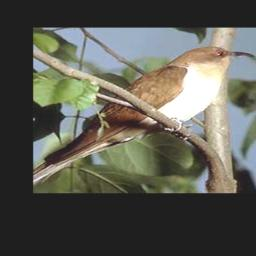Cuckoo: (34, 44, 256, 183)
